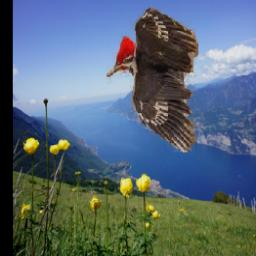Woodpecker: (107, 7, 198, 152)
